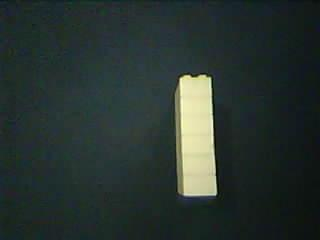lego: (173, 73, 218, 197)
